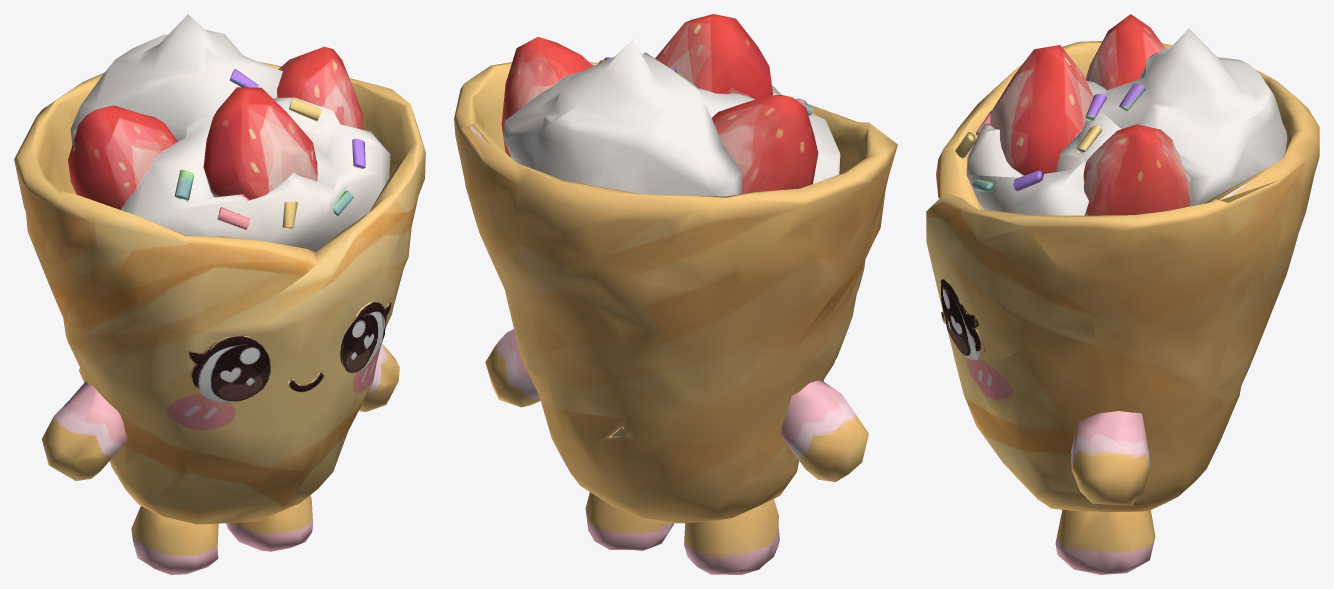
File: source.fbx
The picture shows the model from 3 angles, left to right: view 1: azimuth 30°, elevation 25°; view 2: azimuth 150°, elevation 25°; view 3: azimuth 270°, elevation 25°; orthographic projection. The views are drawn at different scales.
Parts seen in each view (by area): view 1: Mesh_0; view 2: Mesh_0; view 3: Mesh_0.
Part boxes in pixels (bbox=[...]): Mesh_0: bbox=[14, 14, 425, 574]; Mesh_0: bbox=[454, 14, 897, 574]; Mesh_0: bbox=[926, 14, 1319, 574].
Bounding box in the file's own units: 53.87 × 70 × 47.99.
Materials: 1 (1 with a texture image).
